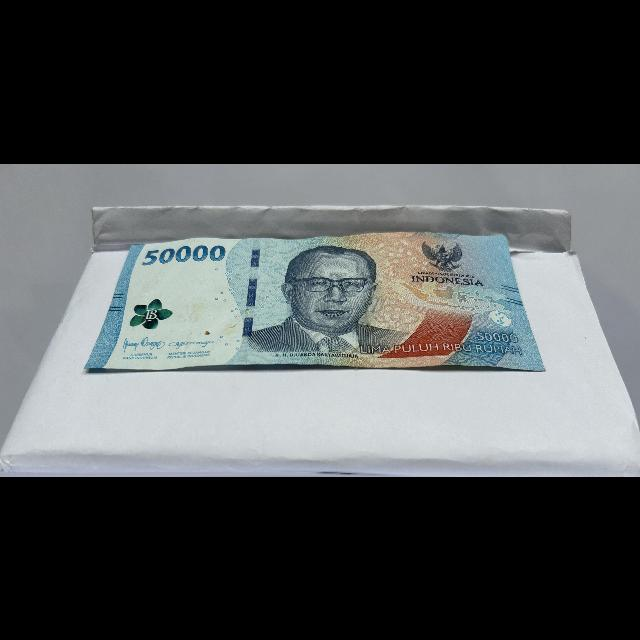Asli-50k: (80, 229, 550, 374)
Tinta-Asli-50k: (127, 297, 176, 331)
